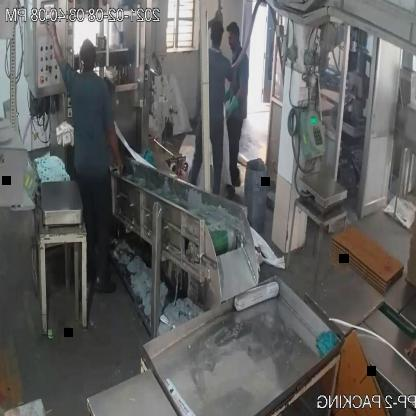glove: (224, 69, 249, 124)
no_glove: (107, 121, 124, 180), (42, 18, 62, 68), (405, 316, 416, 376)
